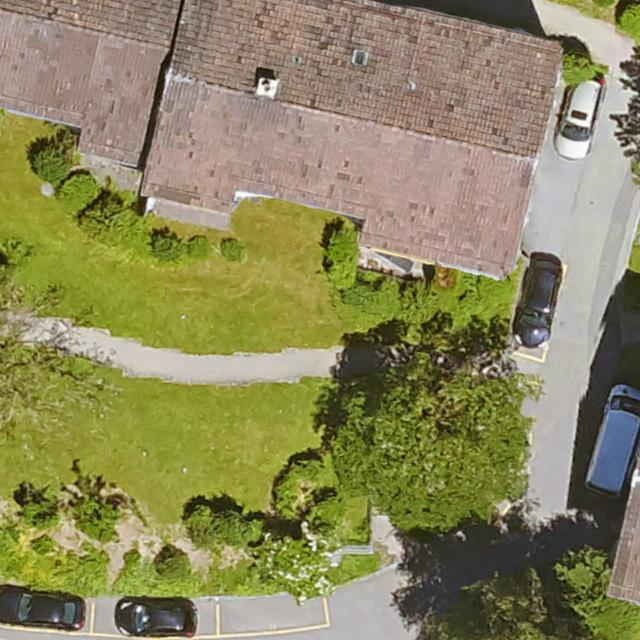tree: (324, 317, 536, 533), (0, 271, 94, 452), (463, 562, 541, 640), (552, 548, 610, 610)
